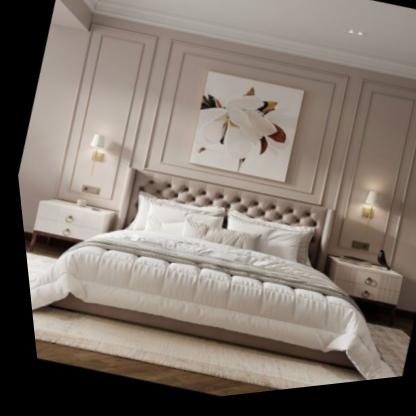Futec frame: (121, 23, 363, 238), (29, 13, 179, 227), (295, 74, 416, 288)
